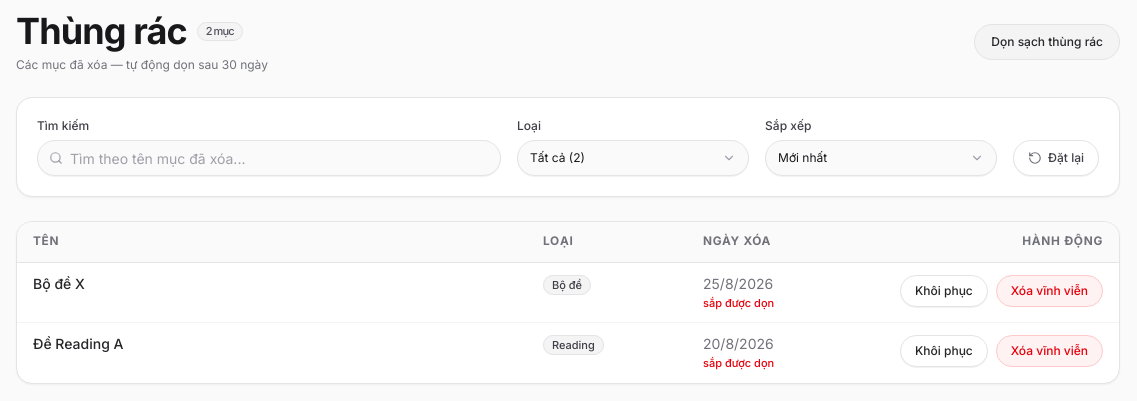
Test: Trash page — P3 modal + a11y + error handling › type filter only lists types present in the trash, with counts, and filters on selection
Expected: the text "Đề Reading A" is shown, x1=17 y1=323 x2=527 y2=383
Click the button with aria-label "Lọc theo loại" at [633, 158], box x1=517 y1=140 x2=749 y2=176
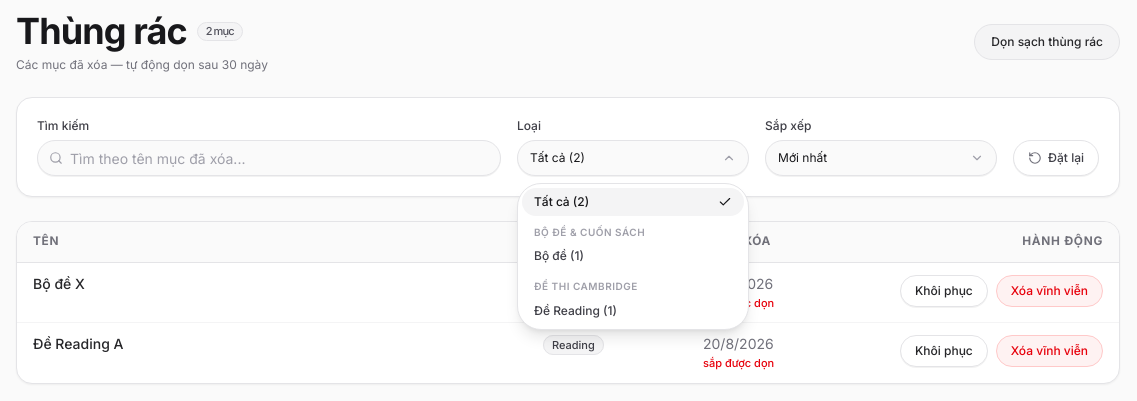
Expected: the options read "Tất cả (2)", "Bộ đề (1)", "Đề Reading (1)", in this order
Click the option "Bộ đề (1)" at [559, 256], box x1=534 y1=248 x2=584 y2=263
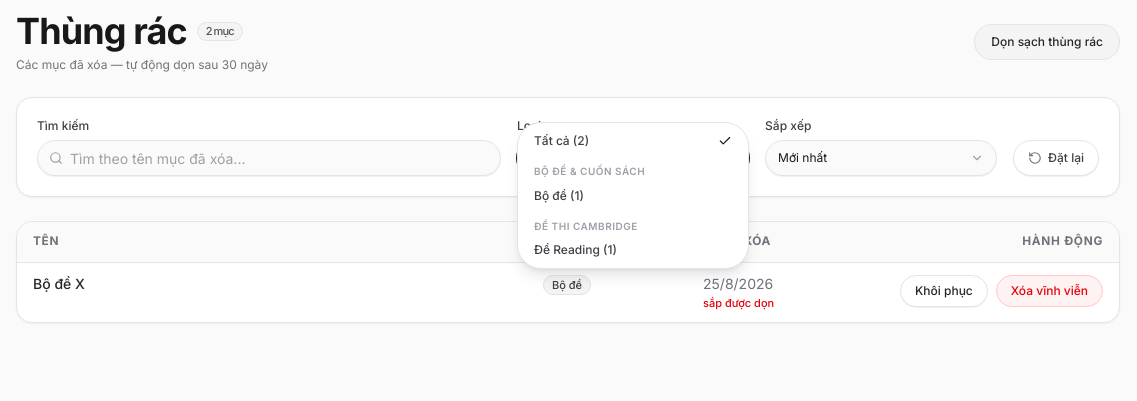
Expected: the text "Bộ đề X" is shown, x1=17 y1=262 x2=527 y2=322
Expected: the text "Đề Reading A" is gone
Type "không có" into the field with placeholder "Tìm theo tên mục đã xóa..." at [269, 158], box x1=37 y1=140 x2=501 y2=176
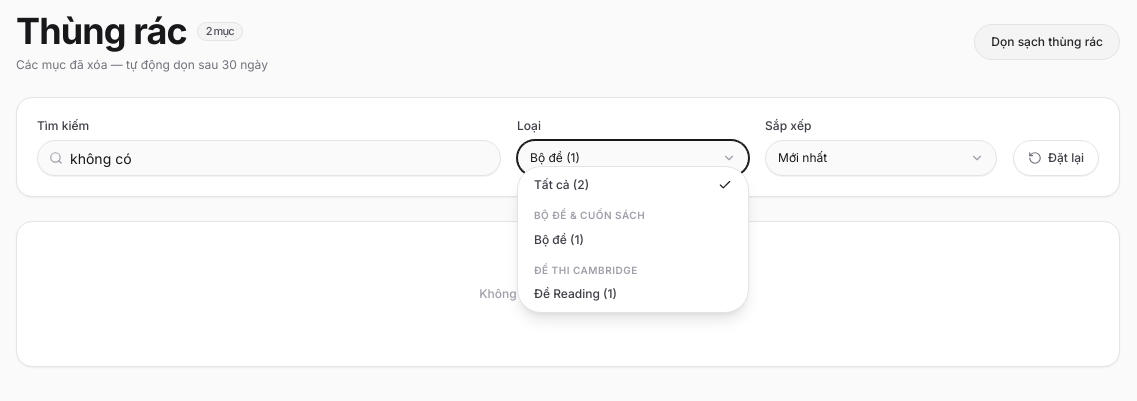
Expected: the text "Không có mục nào khớp bộ lọc" is shown, x1=479 y1=286 x2=657 y2=301
Click the button "Đặt lại" at [1056, 158], box x1=1013 y1=140 x2=1099 y2=176
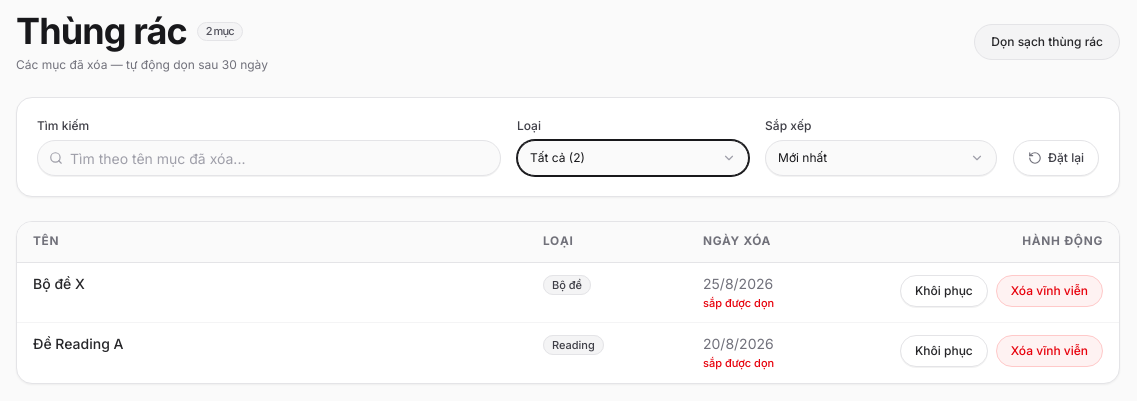
Expected: the text "Bộ đề X" is shown, x1=17 y1=262 x2=527 y2=323
Expected: the text "Đề Reading A" is shown, x1=17 y1=323 x2=527 y2=383
